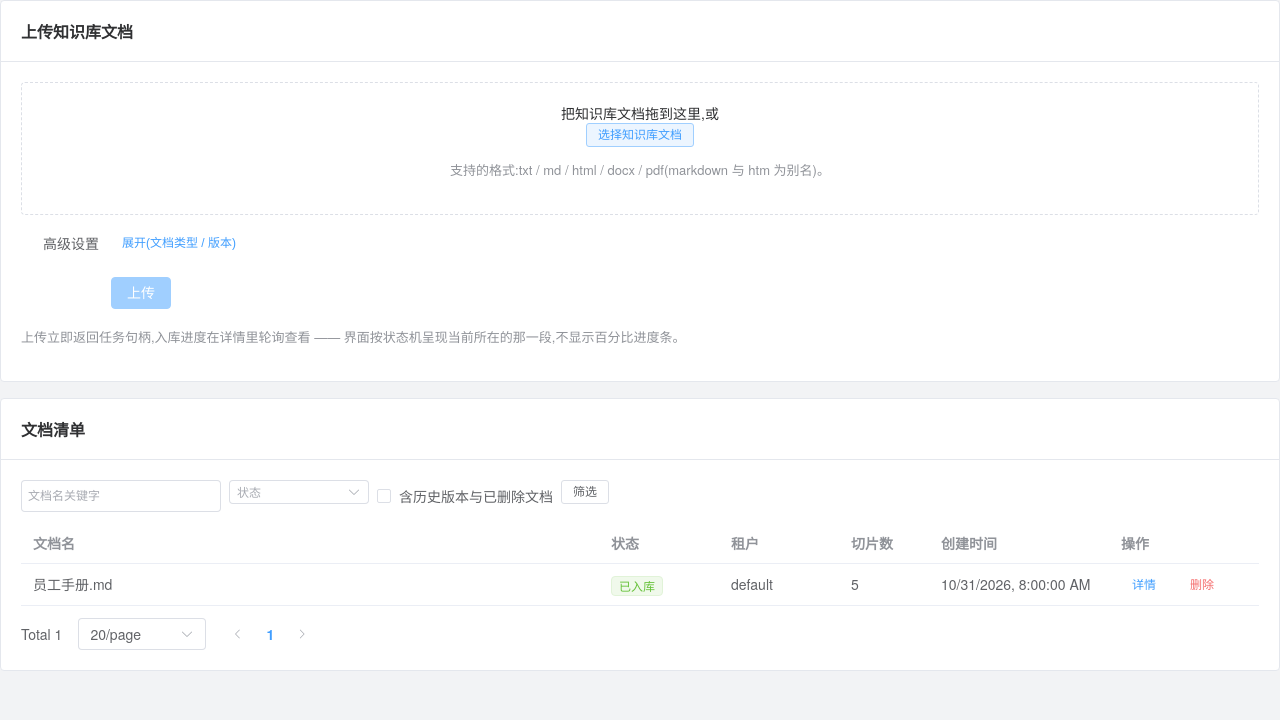
it: 知识库文档页组件行为 › 详情抽屉 › 给出概览、时间线、切片预览与解析元素四块内容
The image size is (1280, 720).
Expected: the row "员工手册.md 已入库 default 5 10/31/2026, 8:00:00 AM 详情 删除" is shown, [21, 564, 1259, 606]
Step 1. Click the button with test id "documents-detail-doc-1" → (1144, 585), box [1121, 573, 1167, 597]
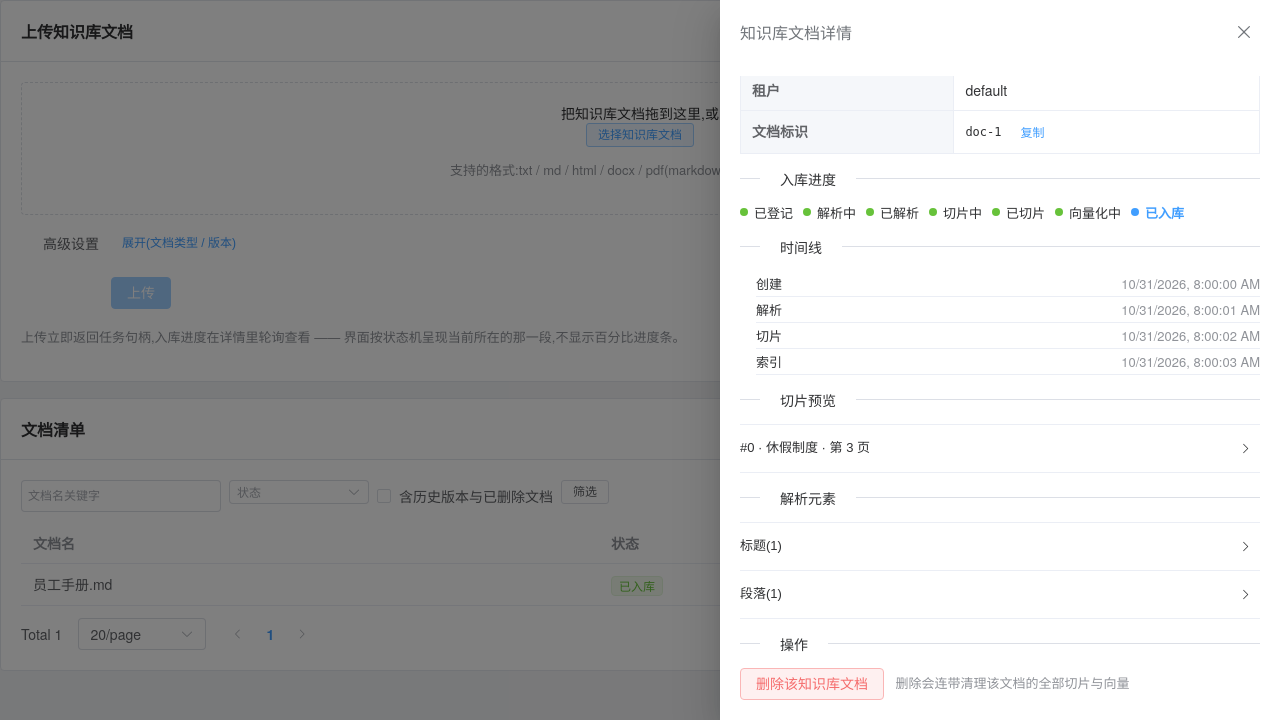
Result: the list with test id "documents-timeline" is shown at [740, 271, 1260, 375]
Result: the list with test id "documents-timeline" shows "创建" at [756, 274, 782, 293]
Result: the list with test id "documents-timeline" shows "解析" at [756, 300, 782, 319]
